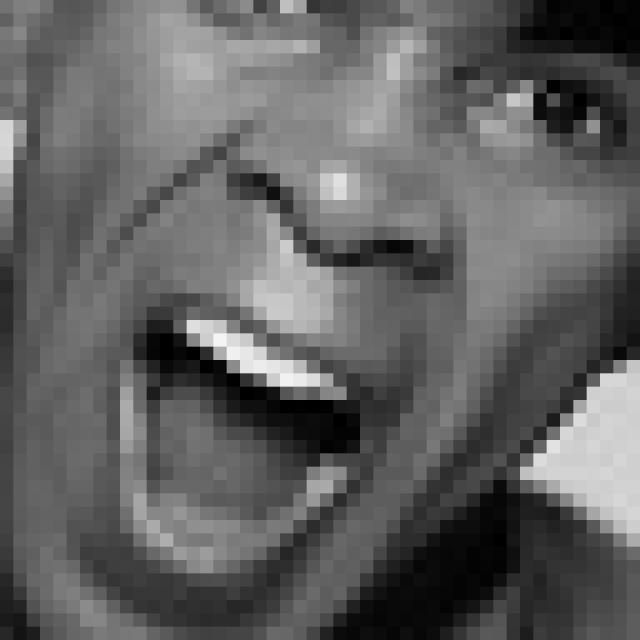angry: (98, 0, 639, 625)
